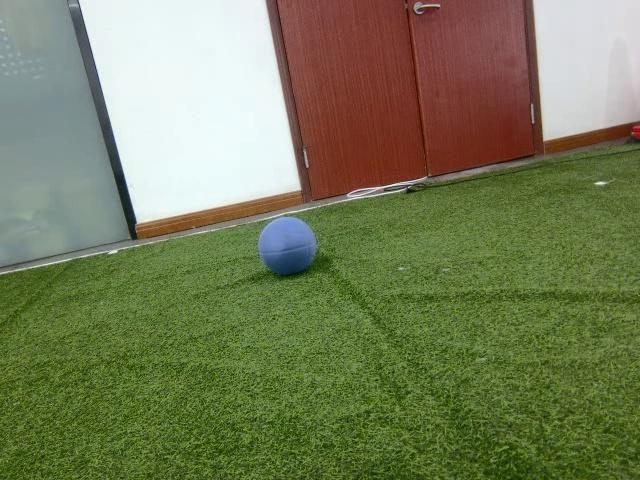blue_ball: (255, 216, 317, 279)
